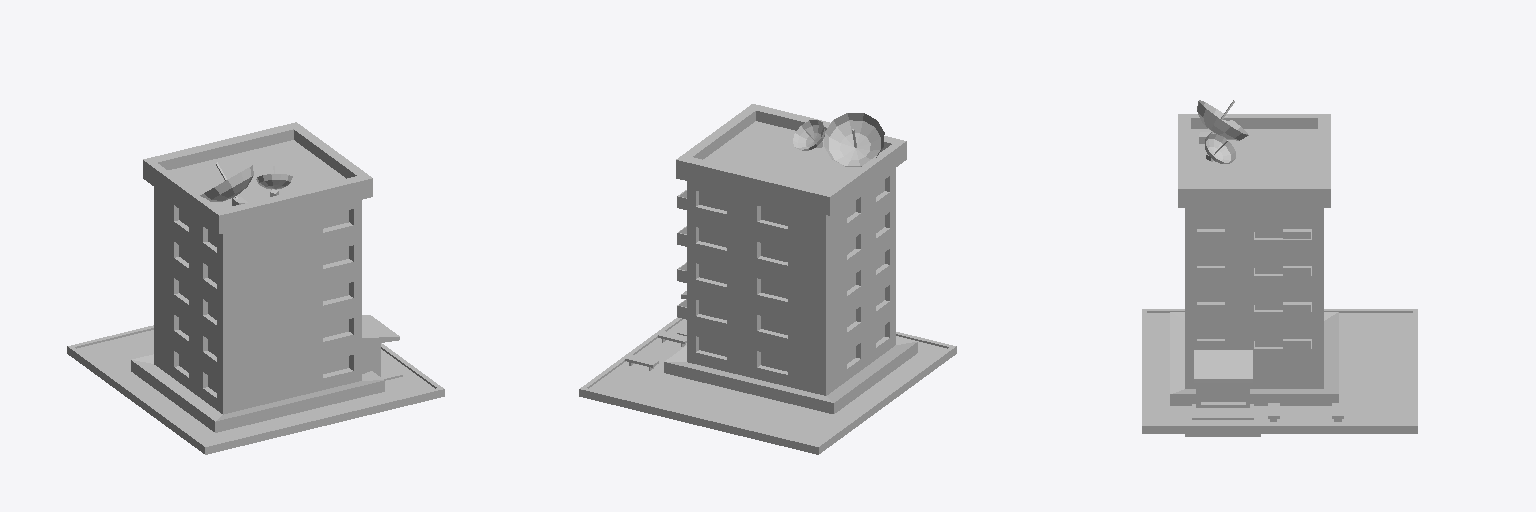
File: build1.obj
3 views of the same model, side by side, from view 1: azimuth 30°, elevation 25°; view 2: azimuth 150°, elevation 25°; view 3: azimuth 270°, elevation 25° (orthographic).
Parts seen in each view (by area): view 1: House, Floor.4, Antenne; view 2: House, Floor.4, Antenne, Antenne.1; view 3: House, Floor.4, Antenne, Antenne.1.
Part boxes in pixels (bbox=[...]): House: bbox=[131, 122, 402, 432]; Floor.4: bbox=[67, 325, 444, 454]; Antenne: bbox=[200, 162, 253, 205]; House: bbox=[664, 104, 917, 413]; Floor.4: bbox=[579, 317, 956, 454]; Antenne: bbox=[824, 113, 884, 166]; Antenne.1: bbox=[793, 120, 824, 150]; House: bbox=[1170, 114, 1338, 436]; Floor.4: bbox=[1142, 309, 1417, 433]; Antenne: bbox=[1197, 100, 1248, 143]; Antenne.1: bbox=[1205, 134, 1235, 163].
Bounding box in the file's own units: 557 × 566 × 557.